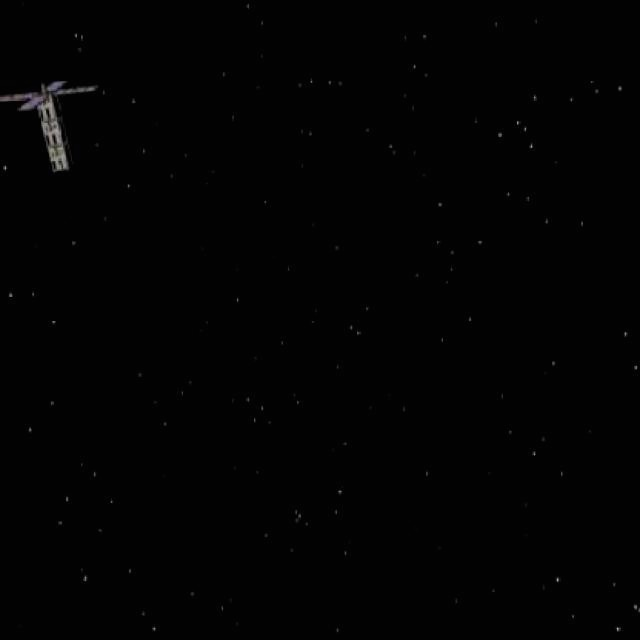satellite: (0, 65, 104, 183)
